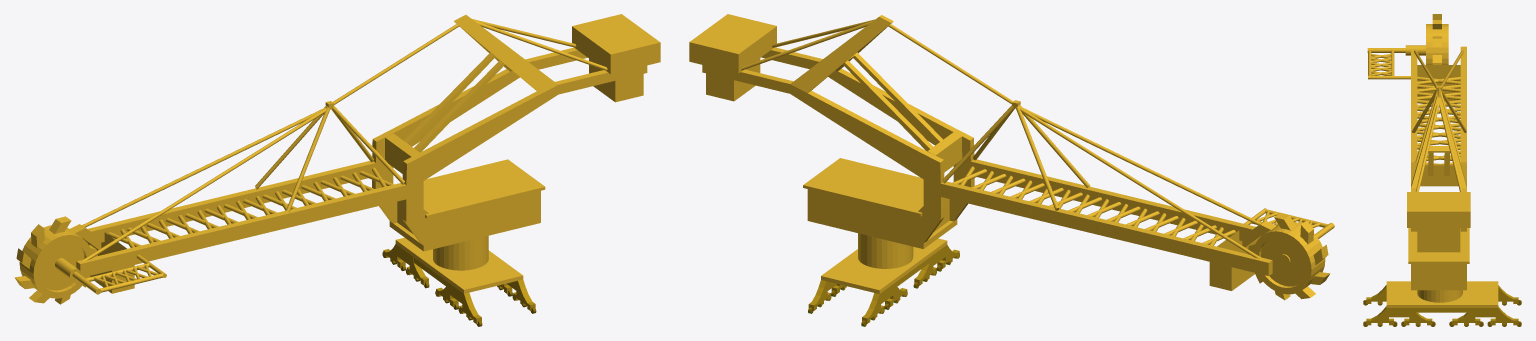
The model's file is stacker_reclaimer.glb.
3 renders of one model, left to right at view 1: azimuth 30°, elevation 25°; view 2: azimuth 150°, elevation 25°; view 3: azimuth 270°, elevation 25°, orthographic. The views are drawn at different scales.
Visible parts, largest first — view 1: Cylinder.001, Cylinder.013, Cube.027, Cube Roda.015; view 2: Cylinder.001, Cylinder.013, Cube.027, Cube Roda.015; view 3: Cylinder.001, Cube Roda.015, Cube.027, Cylinder.013.
Part boxes in pixels (bbox=[...]): Cylinder.001: bbox=[55, 14, 660, 294]; Cylinder.013: bbox=[14, 216, 97, 304]; Cube.027: bbox=[395, 237, 523, 293]; Cube Roda.015: bbox=[383, 244, 535, 323]; Cylinder.001: bbox=[689, 14, 1334, 290]; Cylinder.013: bbox=[1247, 213, 1330, 300]; Cube.027: bbox=[821, 238, 947, 293]; Cube Roda.015: bbox=[808, 245, 959, 323]; Cylinder.001: bbox=[1367, 45, 1470, 302]; Cube Roda.015: bbox=[1366, 285, 1518, 325]; Cube.027: bbox=[1386, 281, 1498, 307]; Cylinder.013: bbox=[1426, 14, 1448, 64].
Bounding box in the file's own units: 23189 × 9578 × 6249.
